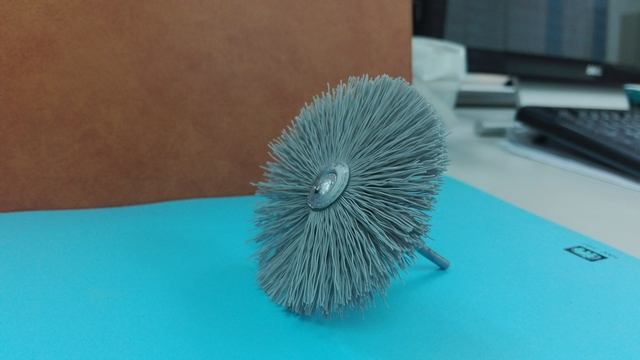TOOL: (197, 50, 492, 319), (224, 37, 493, 301), (223, 84, 465, 338)
